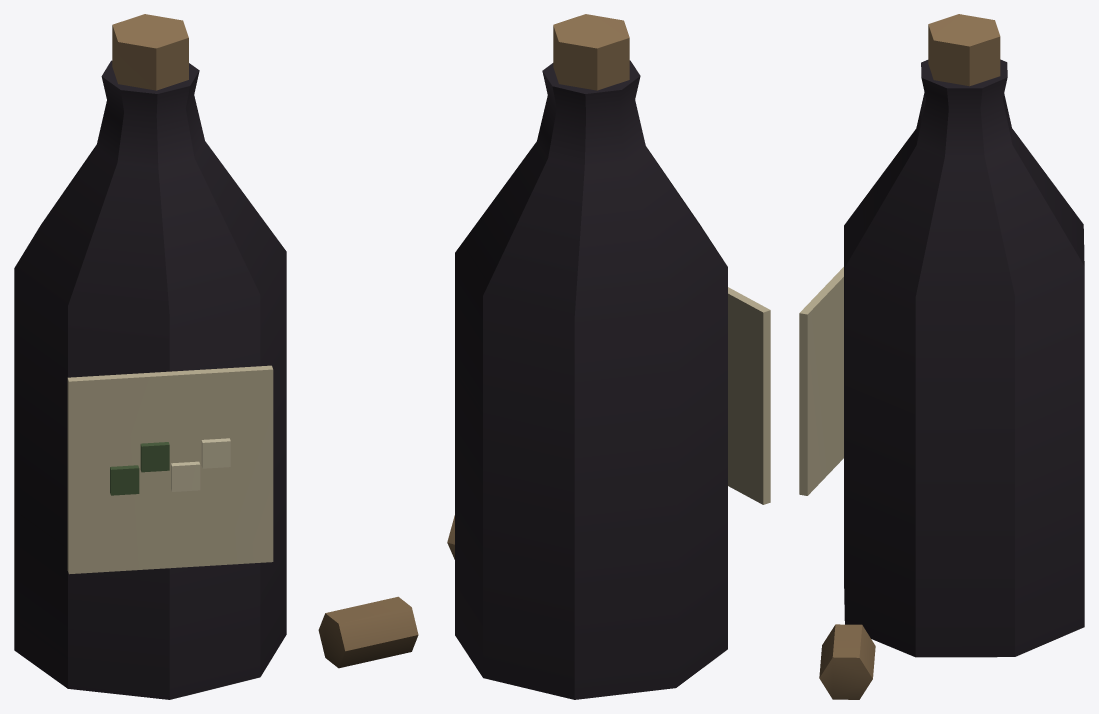
Rendered from ph_item_elder_wine.glb.
3 views of the same model, side by side, from view 1: azimuth 30°, elevation 25°; view 2: azimuth 150°, elevation 25°; view 3: azimuth 270°, elevation 25° (orthographic). The views are drawn at different scales.
Parts seen in each view (by area): view 1: ph_item_elder_wine; view 2: ph_item_elder_wine; view 3: ph_item_elder_wine.
Part boxes in pixels (<box>): ph_item_elder_wine: <box>14,14,418,699</box>; ph_item_elder_wine: <box>447,14,770,699</box>; ph_item_elder_wine: <box>799,14,1084,699</box>.
Bounding box in the file's own units: 0.1574 × 0.2884 × 0.1276.
